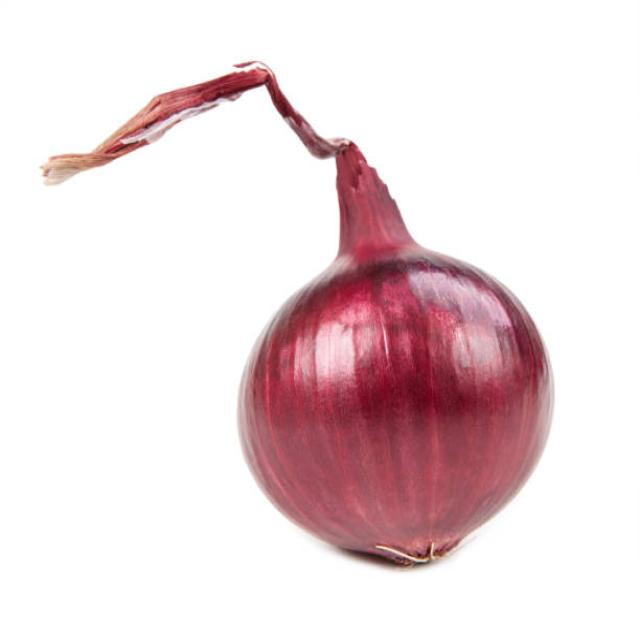onion: (234, 258, 562, 578)
